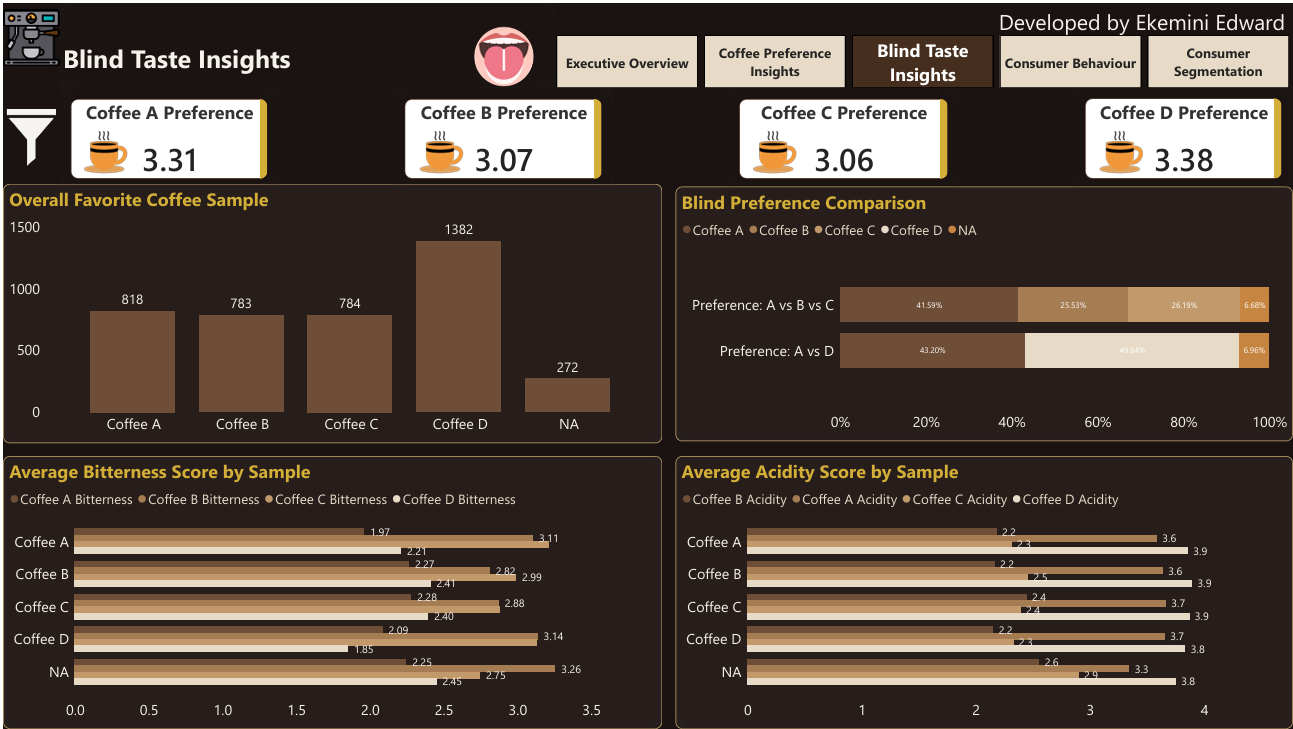

Layout of this report page (visuals, bound fields, positions):
{"tool":"powerbi","page":{"name":"Blind Taste Insights","canvas":[1920,1080],"ordinal":2},"visuals":[{"type":"textbox","box":[83.8,0,740.6,125.6],"z":0},{"type":"clusteredColumnChart","title":"Overall Favorite Coffee Sample","fields":{"Category":["Coffee_Survey_Facts.overall_favourite_coffee"],"Y":["_Measures.Total Respondents"]},"box":[0,268.9,980.8,385.7],"z":1000},{"type":"clusteredBarChart","title":"Average Bitterness Score by Sample","fields":{"Y":["_Measures.Coffee A Bitterness","_Measures.Coffee B Bitterness","_Measures.Coffee C Bitterness","_Measures.Coffee D Bitterness"],"Category":["Coffee_Survey_Facts.overall_favourite_coffee"]},"box":[0,674.4,980.8,405.6],"z":2000},{"type":"clusteredBarChart","title":"Average Acidity Score by Sample","fields":{"Y":["_Measures.Coffee B Acidity","_Measures.Coffee A Acidity","_Measures.Coffee C Acidity","_Measures.Coffee D Acidity"],"Category":["Coffee_Survey_Facts.overall_favourite_coffee"]},"box":[1000.7,674.4,919.1,405.6],"z":3000},{"type":"hundredPercentStackedBarChart","title":"Blind Preference Comparison","fields":{"Category":["Coffee_Survey_Facts.comparison"],"Series":["Coffee_Survey_Facts.preferred_coffee"],"Y":["_Measures.Total Respondents"]},"box":[1000.7,273.3,919.1,379.1],"z":4000},{"type":"cardVisual","fields":{"Data":["_Measures.Coffee A Preference"]},"box":[83.8,125.6,326.2,152.1],"z":5000},{"type":"cardVisual","fields":{"Data":["_Measures.Coffee B Preference"]},"box":[581.4,125.6,326.2,152.1],"z":6000},{"type":"cardVisual","fields":{"Data":["_Measures.Coffee C Preference"]},"box":[1079.1,125.6,343.8,152.1],"z":7000},{"type":"cardVisual","fields":{"Data":["_Measures.Coffee D Preference"]},"box":[1594.4,125.3,325.6,152.4],"z":8000},{"type":"group","id":"g1","title":"Blind Taste Insights Filter","box":[0,141.4,400.5,920.9],"z":9000},{"type":"pageNavigator","box":[824.3,48.5,1093.2,77.1],"z":10000},{"type":"textbox","box":[1476.7,0,440.8,63.9],"z":11000},{"type":"image","box":[0,143.3,83.8,114.6],"z":11000,"group":"g1"},{"type":"image","box":[103.6,185.1,97,72.7],"z":12000},{"type":"image","box":[603.9,185.1,97,72.7],"z":13000},{"type":"image","box":[1099.8,185.1,97,72.7],"z":14000},{"type":"image","box":[1615.6,185.1,97,72.7],"z":15000},{"type":"image","box":[683.3,33.1,123.4,92.6],"z":16000},{"type":"image","box":[0,0,83.8,103],"z":17000}]}

Visuals, with their boxes in screenshot pixels (x1, y1, x2, y2), scaled from the page's 1920x1080 canvas onto the 1293x729 screenshot:
textbox: Rect(56, 0, 555, 85)
"Overall Favorite Coffee Sample" clusteredColumnChart: Rect(0, 182, 661, 442)
"Average Bitterness Score by Sample" clusteredBarChart: Rect(0, 455, 661, 728)
"Average Acidity Score by Sample" clusteredBarChart: Rect(674, 455, 1292, 728)
"Blind Preference Comparison" hundredPercentStackedBarChart: Rect(674, 184, 1292, 440)
cardVisual - _Measures.Coffee A Preference: Rect(56, 85, 276, 187)
cardVisual - _Measures.Coffee B Preference: Rect(392, 85, 611, 187)
cardVisual - _Measures.Coffee C Preference: Rect(727, 85, 958, 187)
cardVisual - _Measures.Coffee D Preference: Rect(1074, 85, 1292, 187)
"Blind Taste Insights Filter" group: Rect(0, 95, 270, 717)
pageNavigator: Rect(555, 33, 1291, 85)
textbox: Rect(994, 0, 1291, 43)
image: Rect(0, 97, 56, 174)
image: Rect(70, 125, 135, 174)
image: Rect(407, 125, 472, 174)
image: Rect(741, 125, 806, 174)
image: Rect(1088, 125, 1153, 174)
image: Rect(460, 22, 543, 85)
image: Rect(0, 0, 56, 70)
